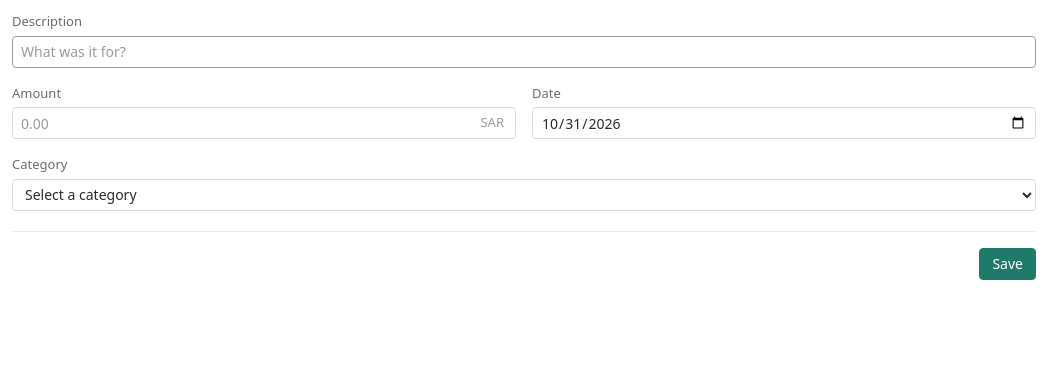
Test: ExpenseForm validation › does not submit an empty form
The image size is (1048, 370).
Clear the date field labelled "Date" at (784, 123), box [532,107,1036,139]
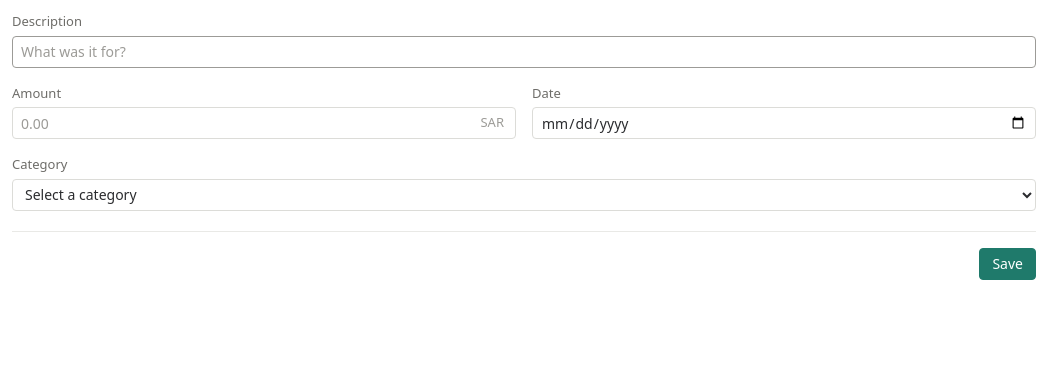
Click the button "Save" at (1008, 264), box [979,248,1036,280]
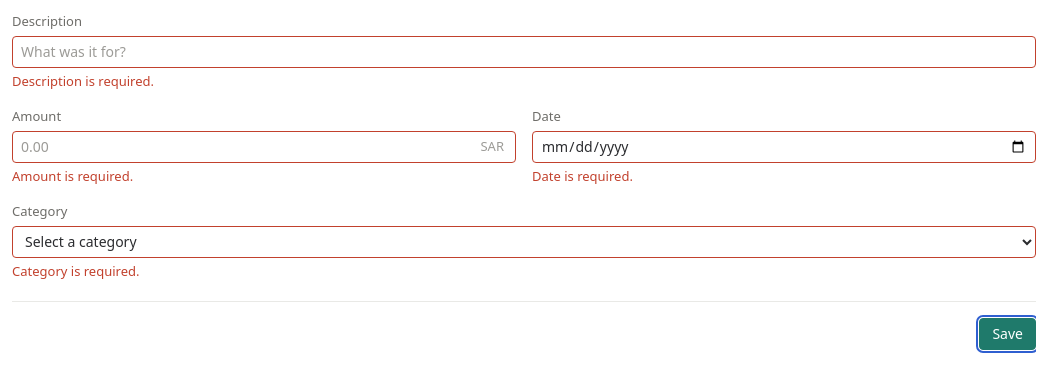
Result: the text "Description is required." is shown at [12,72,154,90]
